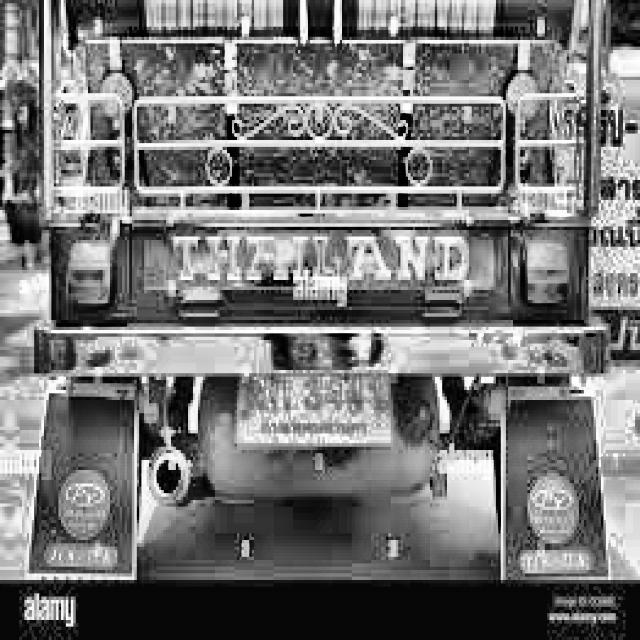license-plate: (230, 357, 410, 456)
